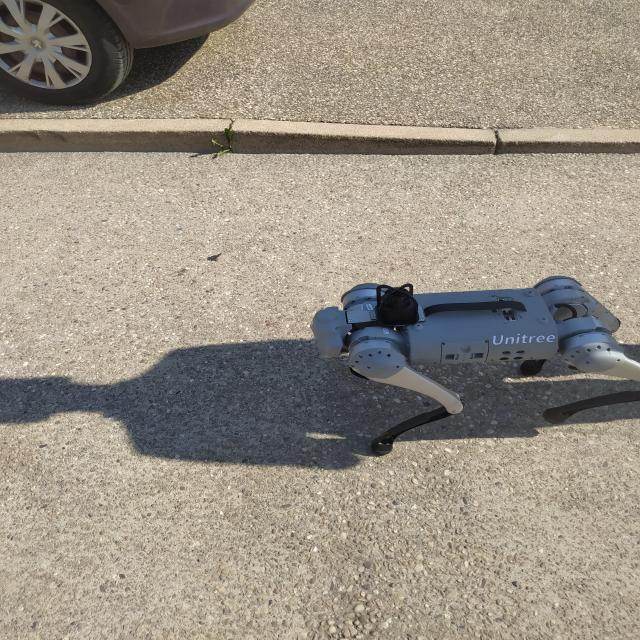unitree-go1-robot: (308, 285, 640, 448)
